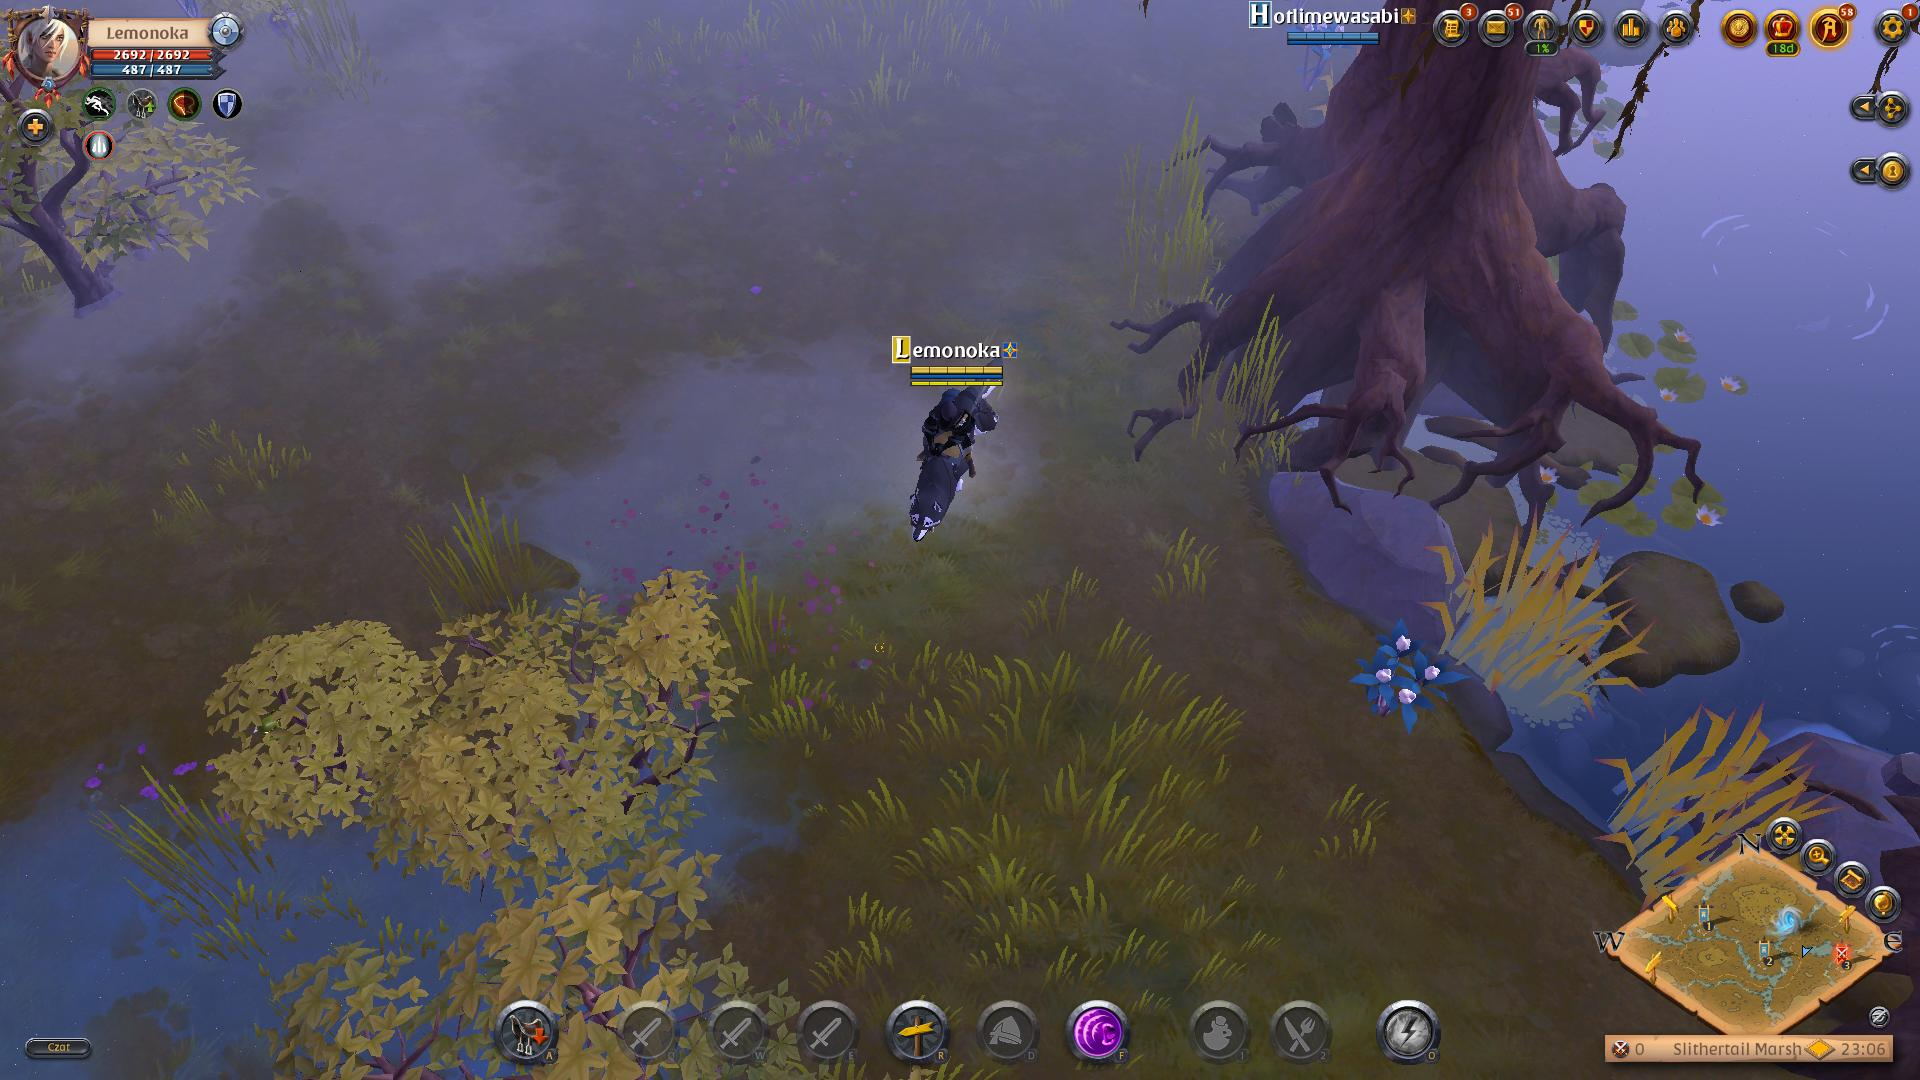fiber tier 4: (1335, 615, 1466, 738)
fish: (1680, 200, 1895, 368)
